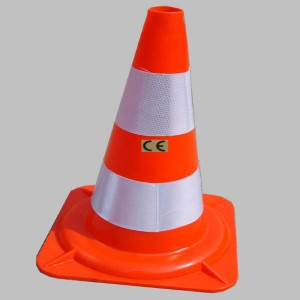traffic cone: (37, 6, 238, 293)
